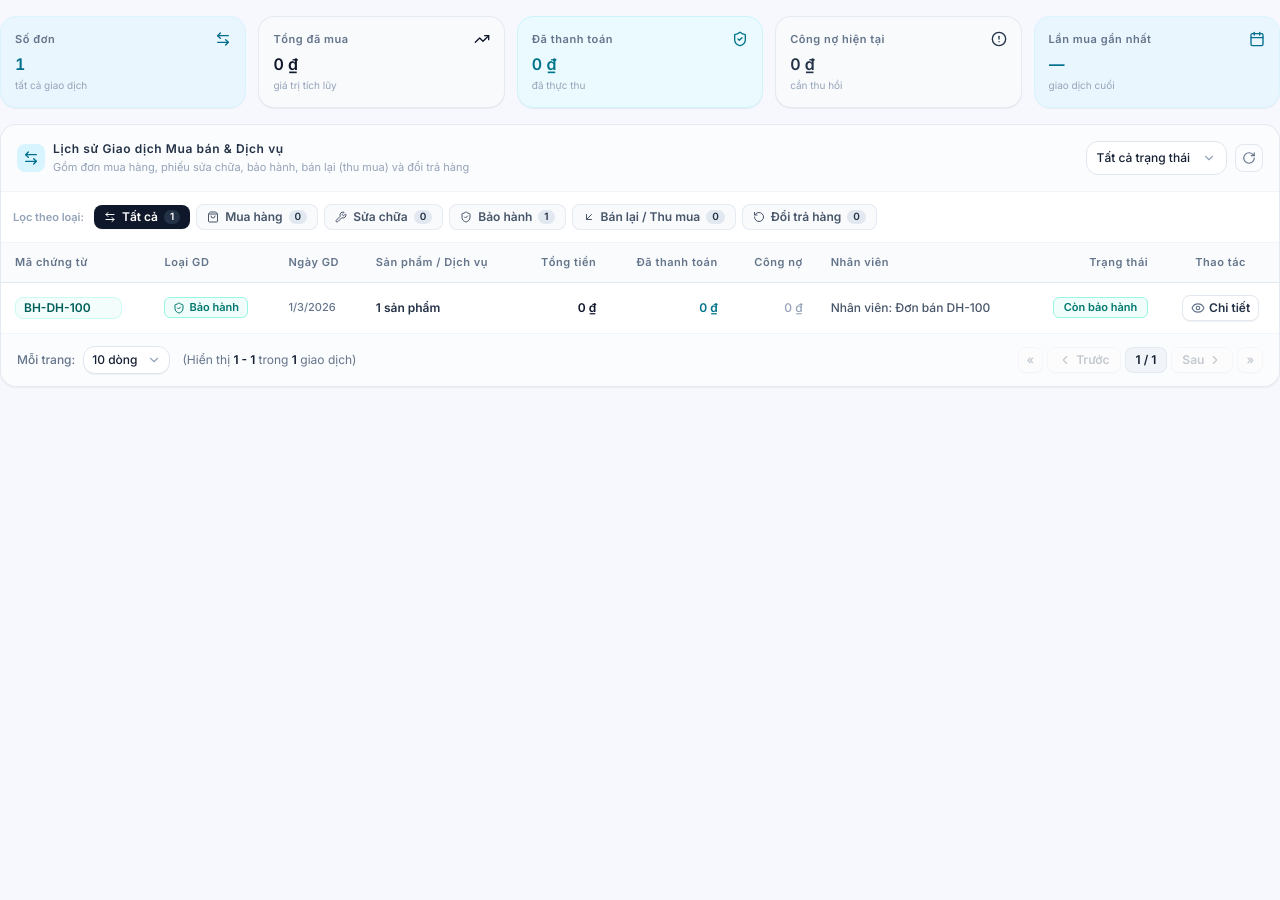
Test: CustomerPurchaseHistoryPanel › filters and shows warranty item details in modal
expect the text "BH-DH-100" is shown: met, box top-left (24, 300), bottom-right (90, 316)
expect the text "Bảo hành" in the row of "Lọc theo loại:" is shown: met, box top-left (478, 209), bottom-right (532, 224)
Click the text "BH-DH-100" at (68, 308), box top-left (1, 282), bottom-right (1279, 333)
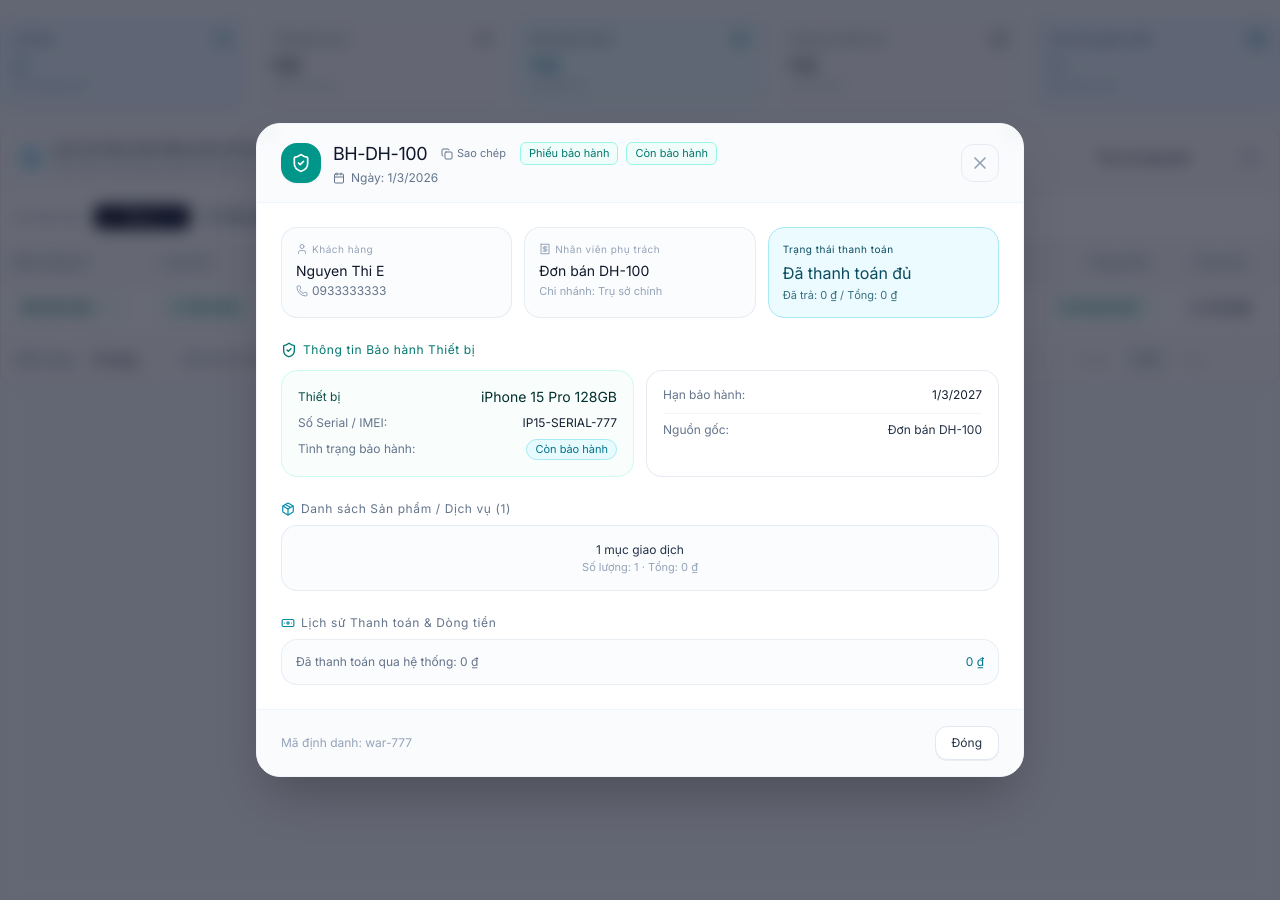
expect the heading "Thông tin Bảo hành Thiết bị" is shown: met, box top-left (281, 342), bottom-right (475, 358)
expect the text "IP15-SERIAL-777" is shown: met, box top-left (523, 415), bottom-right (617, 431)
expect the text "iPhone 15 Pro 128GB" is shown: met, box top-left (481, 387), bottom-right (617, 407)
